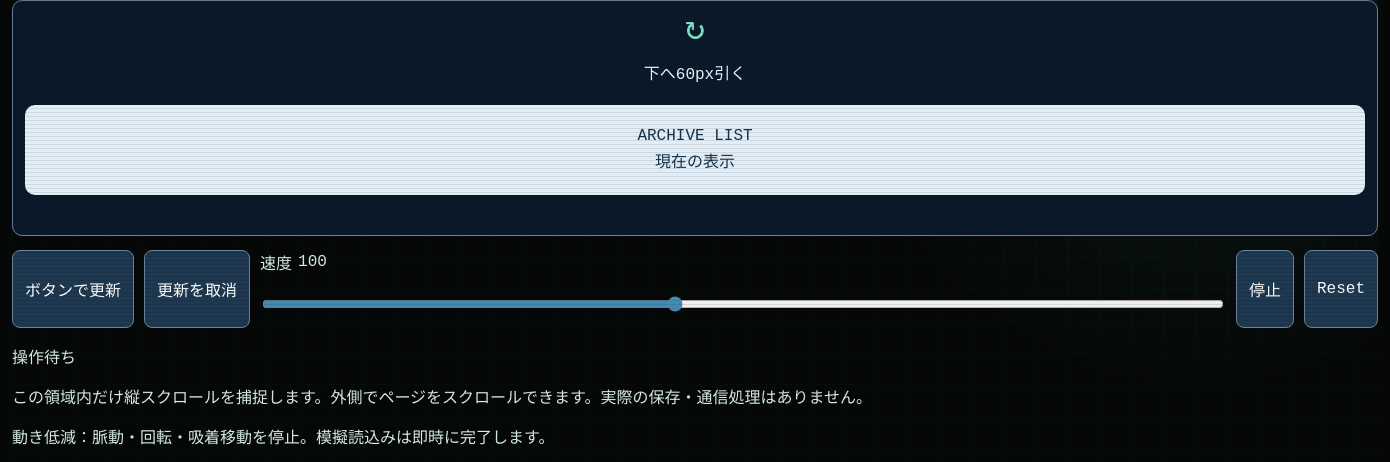
Test: reduced-motion refresh finishes immediately and cancel restores idle
The image size is (1390, 462).
Click the button "ボタンで更新": coordinates (73, 289) [12, 250, 134, 328]
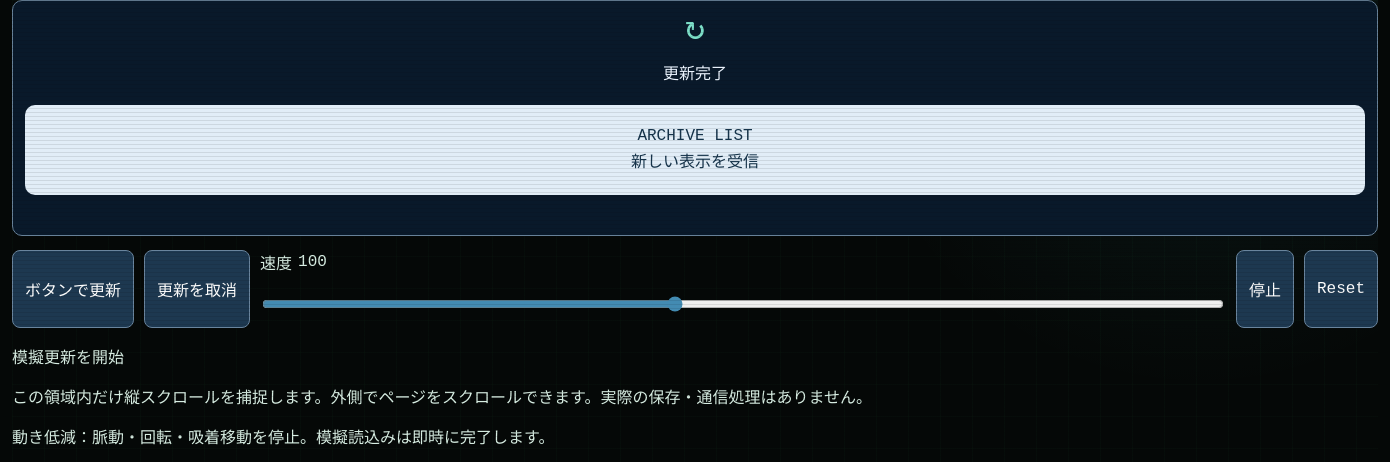
Now the text "更新完了" is shown, box [663, 66, 727, 84]
Click the button "更新を取消": coordinates (197, 289) [144, 250, 250, 328]
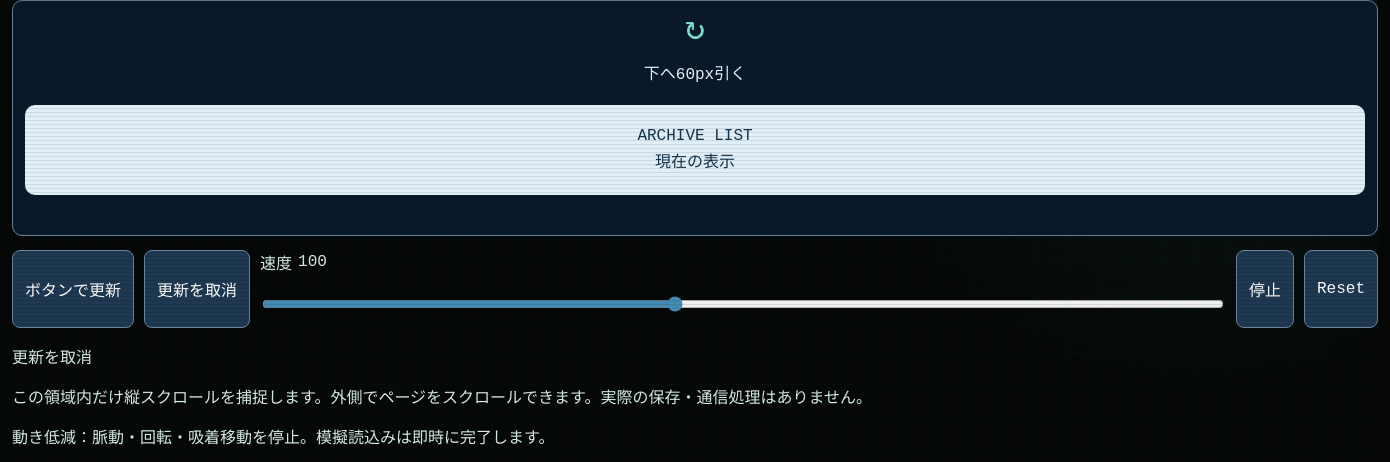
Now the text "更新完了" is gone
